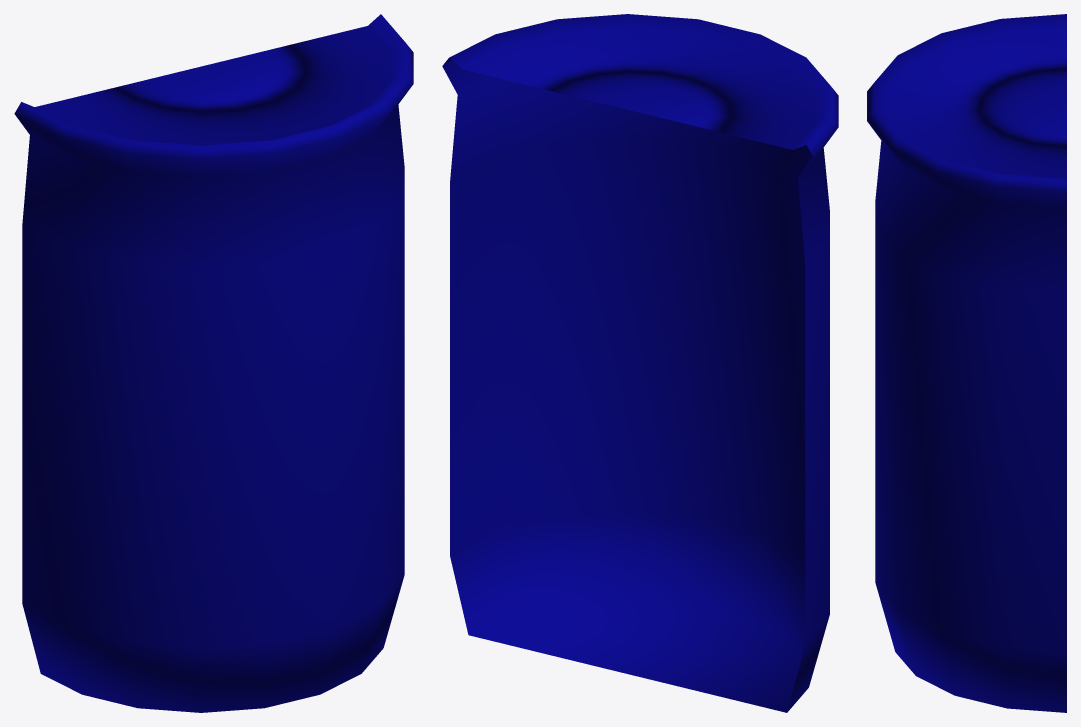
Rendered from fiducial_barrel.dae.
The picture shows the model from 3 angles, left to right: view 1: azimuth 30°, elevation 25°; view 2: azimuth 150°, elevation 25°; view 3: azimuth 270°, elevation 25°; orthographic projection. The views are drawn at different scales.
Parts seen in each view (by area): view 1: Plane; view 2: Plane; view 3: Plane.
Part boxes in pixels (left/top/right/bottom): Plane: left=14, top=14, right=413, bottom=712; Plane: left=442, top=14, right=838, bottom=712; Plane: left=867, top=14, right=1066, bottom=712.
Bounding box in the file's own units: 0.6056 × 0.2982 × 0.8934.
